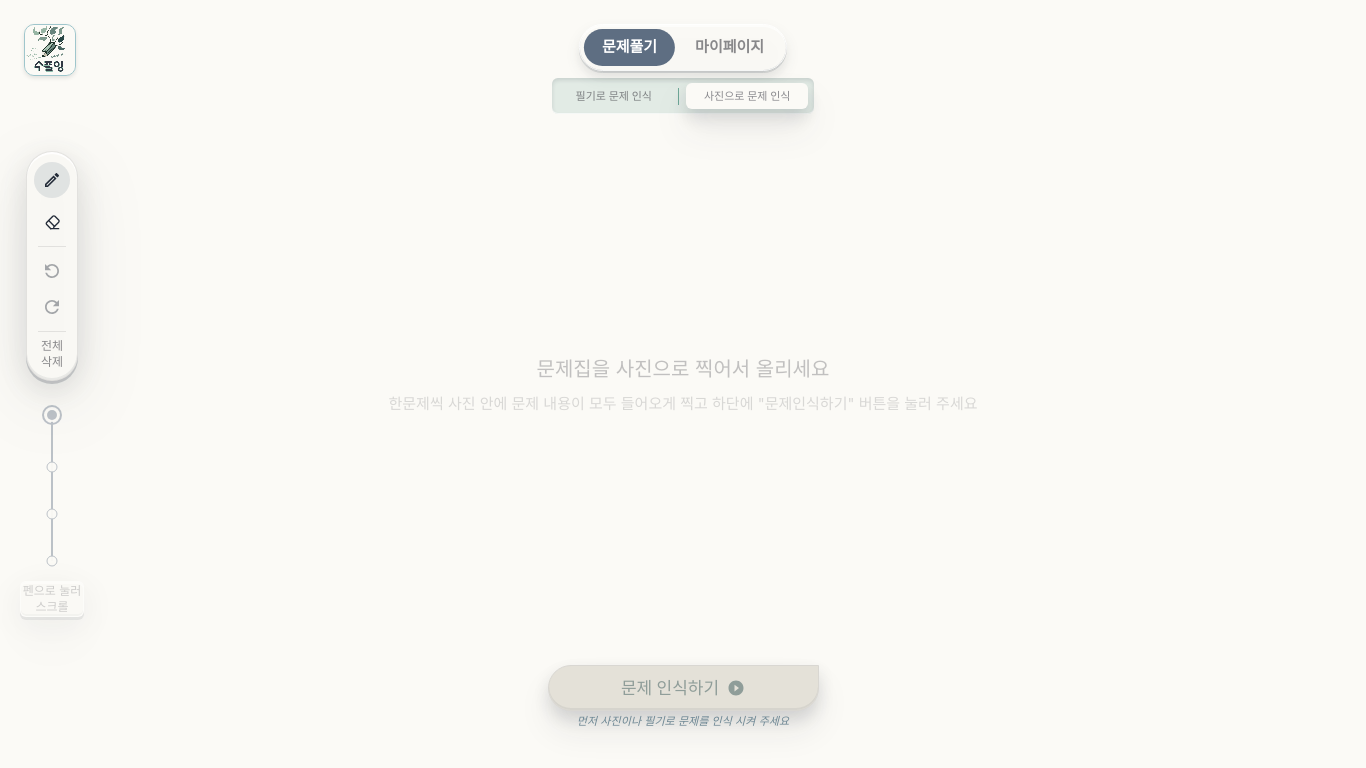
Scenario: SolvePencilcanvasPage — 사진/필기 입력 토글(InputModeToggle, Figma 342-833, 오너 UX 결정) › 필기 모드에서 메뉴를 열었다가 Escape로 닫으면 필기 모드가 유지된다
Click the button "필기로 문제 인식" at {"x": 614, "y": 96}, box [558, 82, 670, 110]
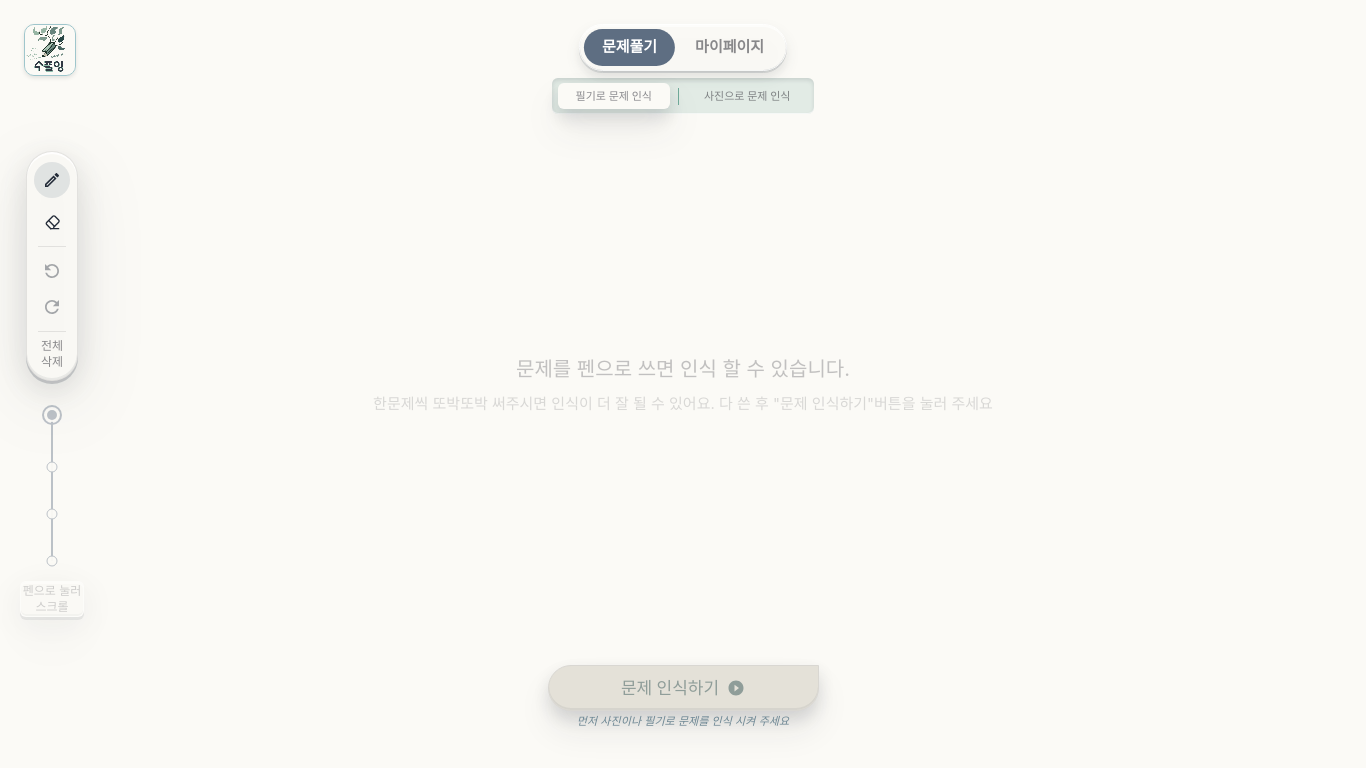
Click the button "사진으로 문제 인식" at {"x": 747, "y": 96}, box [686, 82, 808, 110]
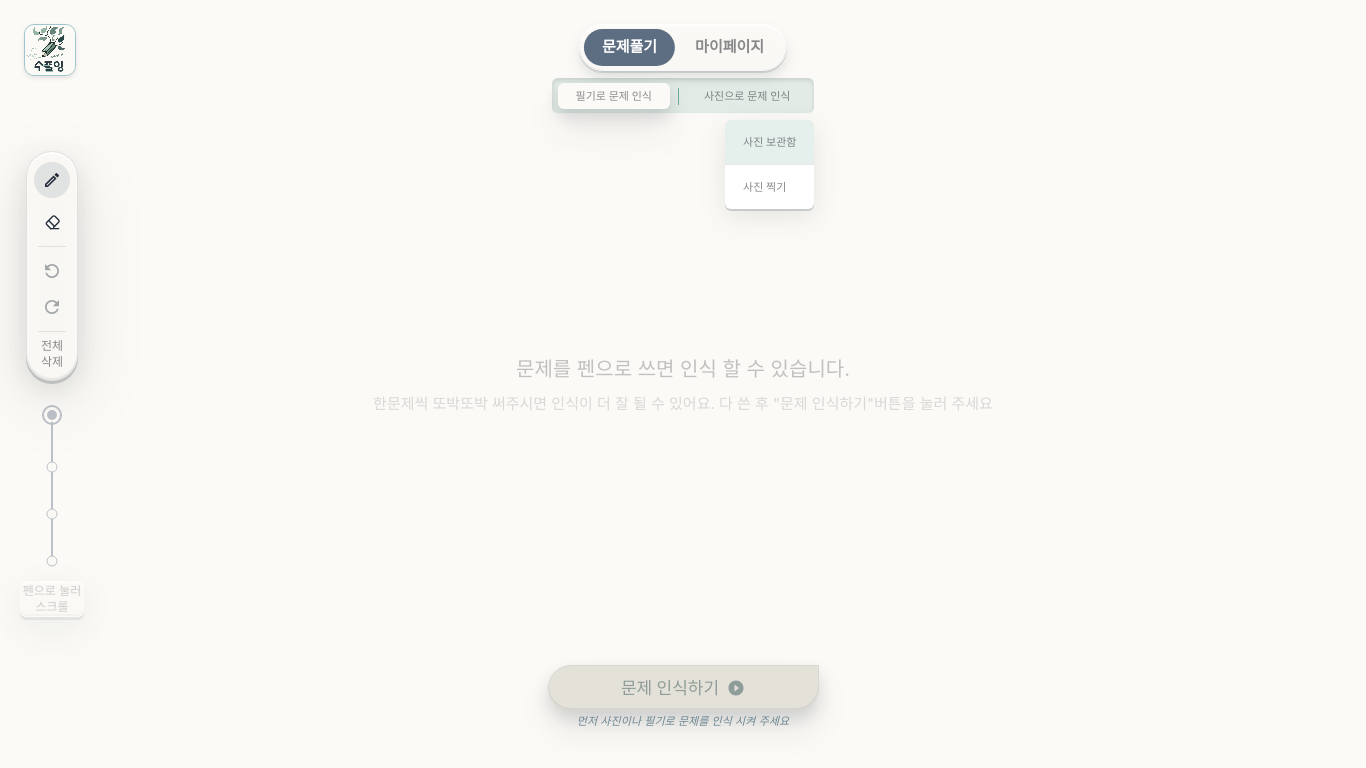
Press Escape in the menu item "사진 보관함", box [725, 120, 814, 164]
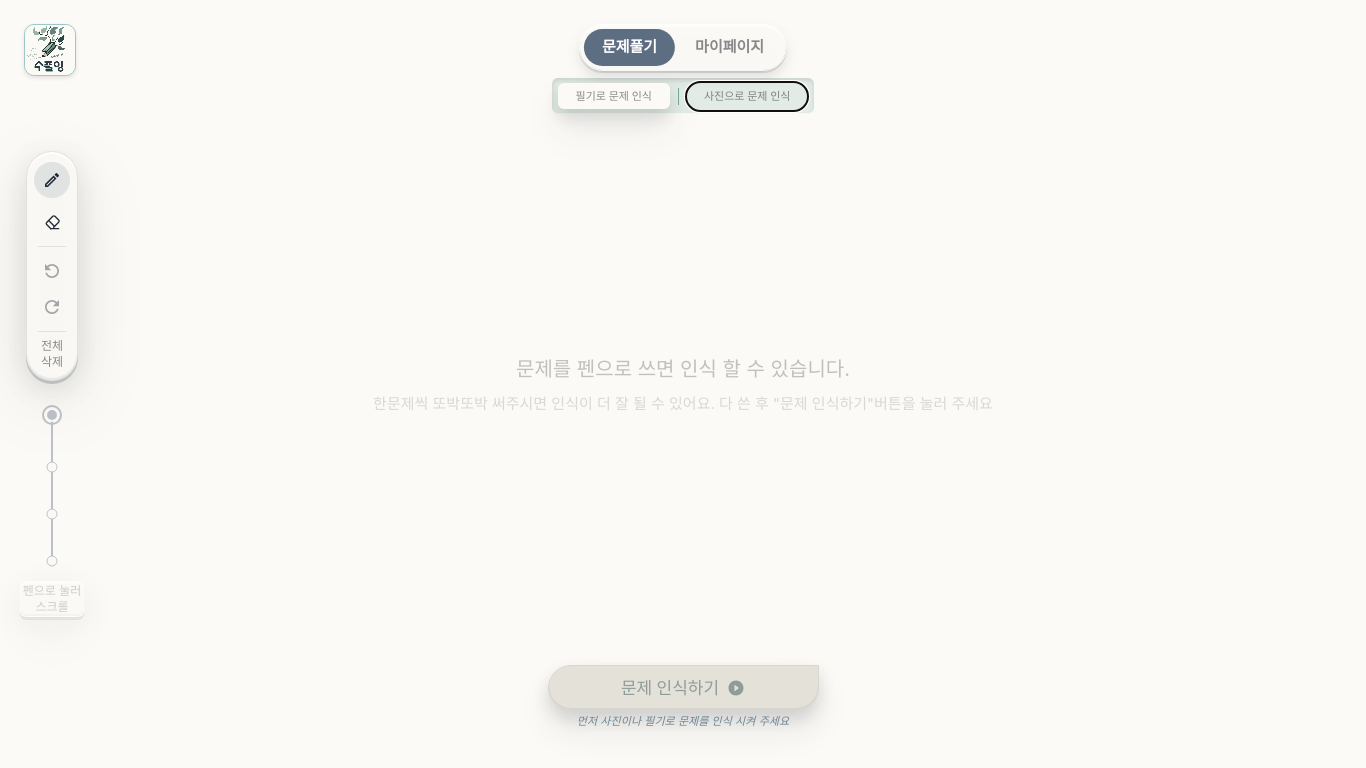
Expected: the menu is gone
